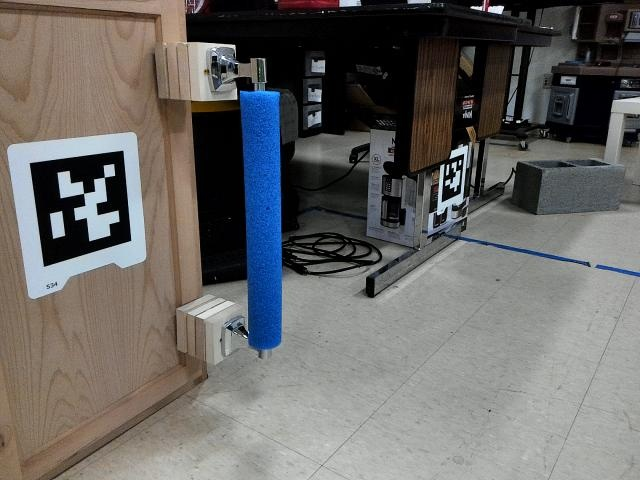noodle_handle: (237, 78, 291, 353)
